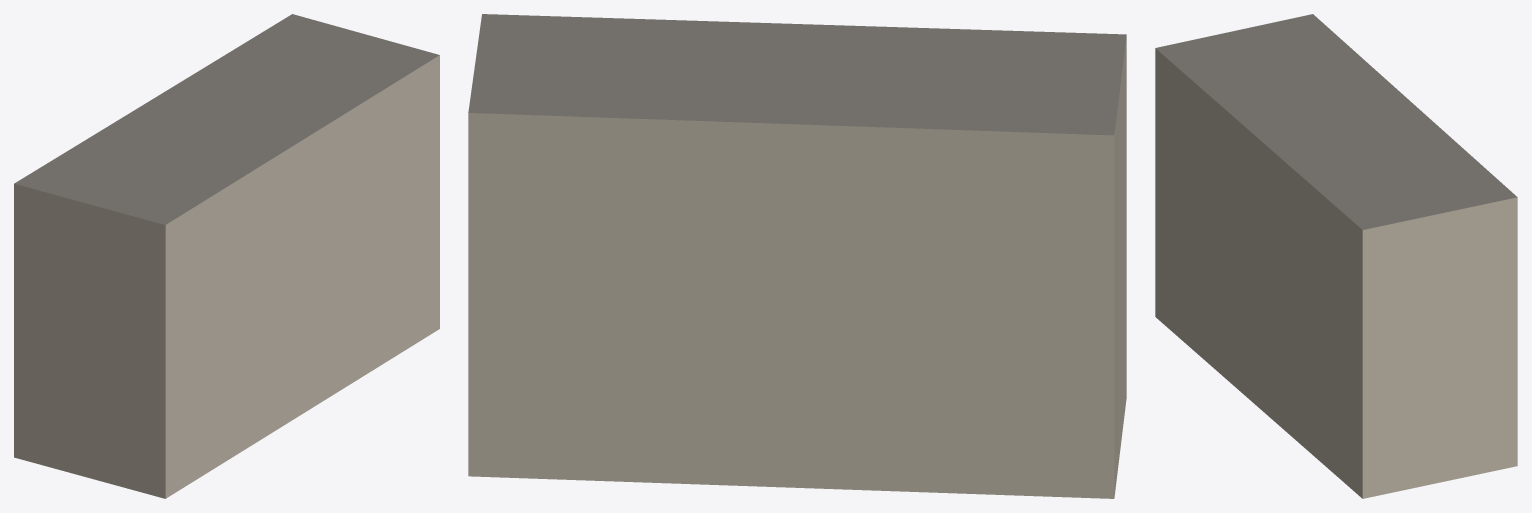
The picture shows the model from 3 angles, left to right: view 1: azimuth 30°, elevation 25°; view 2: azimuth 150°, elevation 25°; view 3: azimuth 270°, elevation 25°; orthographic projection. The views are drawn at different scales.
Visible parts, largest first — view 1: HP-w505633356; view 2: HP-w505633356; view 3: HP-w505633356.
Part boxes in pixels (bbox=[...]): HP-w505633356: bbox=[14, 14, 439, 498]; HP-w505633356: bbox=[468, 14, 1126, 498]; HP-w505633356: bbox=[1155, 14, 1517, 498].
Bounding box in the file's own units: 31.02 × 18 × 21.99.
